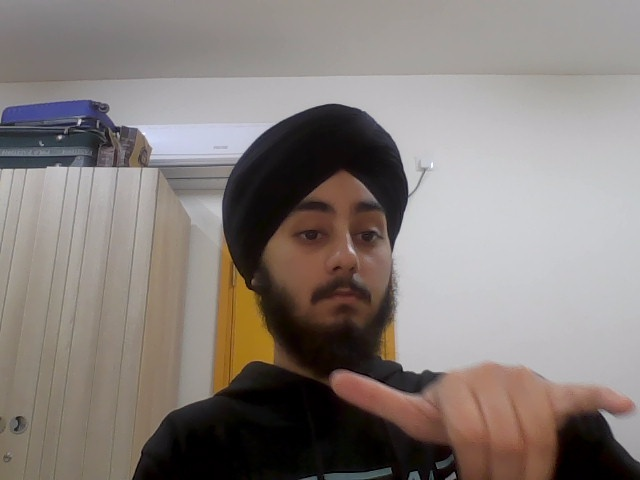Same: (325, 339, 640, 480)
